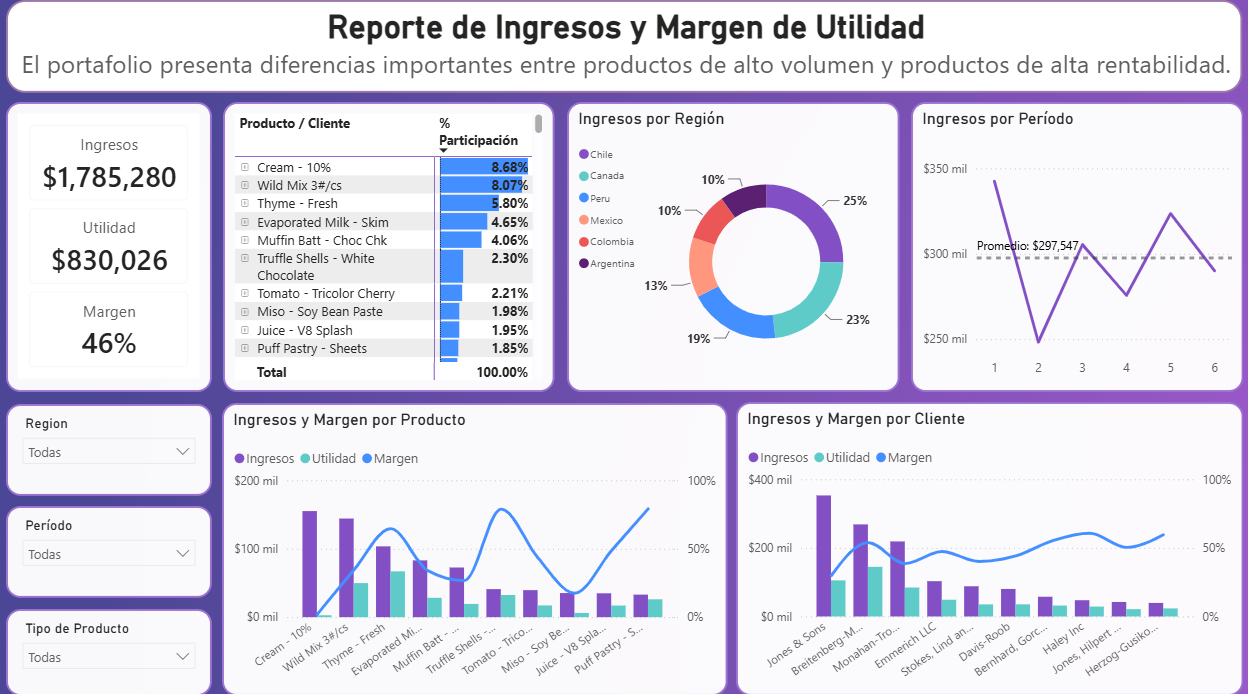

The page's visual inventory and layout, read from the dashboard file:
{"tool":"powerbi","page":{"name":"Reporte de Ingresos y Margen","canvas":[1280,720],"ordinal":0},"visuals":[{"type":"lineClusteredColumnComboChart","title":"Ingresos y Margen por Producto","fields":{"Category":["Registros.Producto"],"Y":["Sum(Registros.Ingresos)","Registros.Utilidad"],"Y2":["Registros.Margen"]},"box":[223.2,417.1,523.4,302.9],"z":0},{"type":"lineClusteredColumnComboChart","title":"Ingresos y Margen por Cliente","fields":{"Y":["Sum(Registros.Ingresos)","Registros.Utilidad"],"Y2":["Registros.Margen"],"Category":["Registros.Cliente"]},"box":[755.3,415.8,524.7,304.2],"z":1000},{"type":"lineChart","title":"Ingresos por Período","fields":{"Category":["Registros.Período"],"Y":["Sum(Registros.Ingresos)"]},"box":[935.7,105.7,344.3,300],"z":2000},{"type":"cardVisual","fields":{"Data":["Sum(Registros.Ingresos)","Registros.Utilidad","Registros.Margen"]},"box":[0,105.7,212.9,300],"z":3000},{"type":"donutChart","title":"Ingresos por Región","fields":{"Y":["Sum(Registros.Ingresos)"],"Category":["Cliente_region.Region"]},"box":[580,105.7,344.3,300],"z":4000},{"type":"pivotTable","fields":{"Rows":["Registros.Producto","Registros.Cliente"],"Values":["Registros.% Participación Producto"]},"box":[224.3,105.7,342.9,300],"z":5000},{"type":"textbox","title":"Reporte de Ingresos y Margen de Utilidad","box":[0,0,1279.3,95.6],"z":6000},{"type":"slicer","fields":{"Values":["Cliente_region.Region"]},"box":[0,417.5,212.5,95],"z":6001},{"type":"slicer","fields":{"Values":["Registros.Período"]},"box":[0,523.8,212.5,95],"z":6002},{"type":"slicer","fields":{"Values":["Producto_tipo.Tipo de Producto"]},"box":[0,630,212.5,90],"z":6003}]}

Visuals, with their boxes in screenshot pixels (x1, y1, x2, y2), scaled from the page's 1280x720 canvas onto the 1248x694 screenshot:
"Ingresos y Margen por Producto" lineClusteredColumnComboChart: {"x1": 218, "y1": 402, "x2": 728, "y2": 693}
"Ingresos y Margen por Cliente" lineClusteredColumnComboChart: {"x1": 736, "y1": 401, "x2": 1247, "y2": 693}
"Ingresos por Período" lineChart: {"x1": 912, "y1": 102, "x2": 1247, "y2": 391}
cardVisual - Sum(Registros.Ingresos) x Registros.Utilidad: {"x1": 0, "y1": 102, "x2": 208, "y2": 391}
"Ingresos por Región" donutChart: {"x1": 566, "y1": 102, "x2": 901, "y2": 391}
pivotTable - Registros.Producto x Registros.Cliente: {"x1": 219, "y1": 102, "x2": 553, "y2": 391}
"Reporte de Ingresos y Margen de Utilidad" textbox: {"x1": 0, "y1": 0, "x2": 1247, "y2": 92}
slicer - Cliente_region.Region: {"x1": 0, "y1": 402, "x2": 207, "y2": 494}
slicer - Registros.Período: {"x1": 0, "y1": 505, "x2": 207, "y2": 596}
slicer - Producto_tipo.Tipo de Producto: {"x1": 0, "y1": 607, "x2": 207, "y2": 693}
